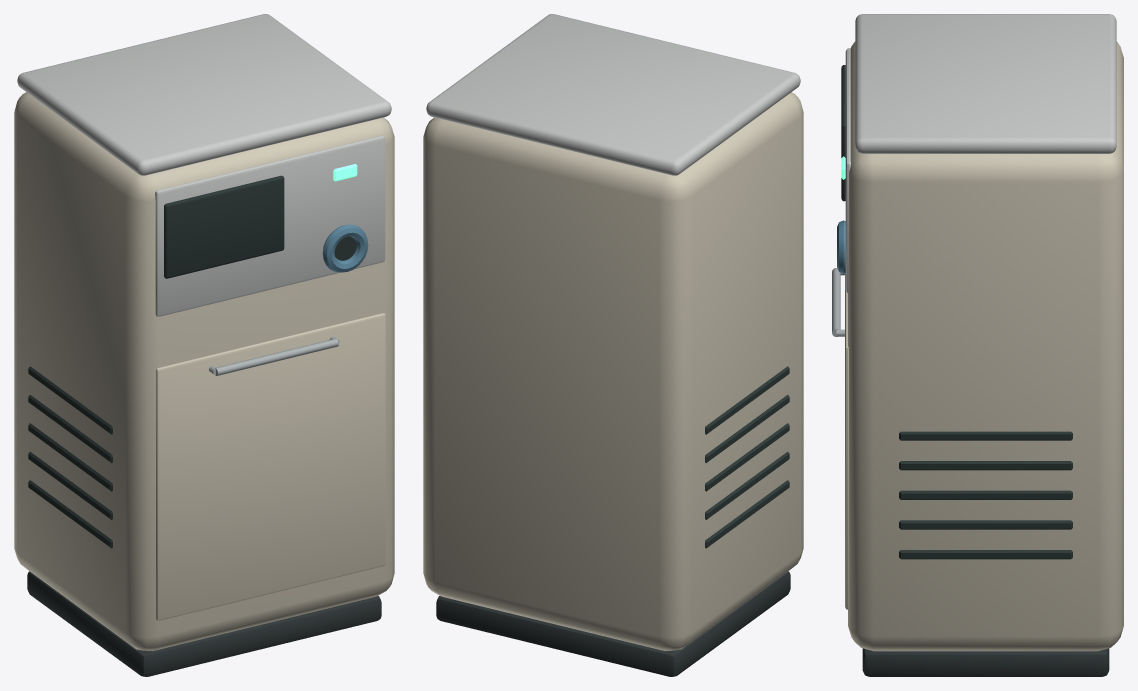
The model's file is sc-smoke-evacuator.glb.
3 renders of one model, left to right at view 1: azimuth 30°, elevation 25°; view 2: azimuth 150°, elevation 25°; view 3: azimuth 270°, elevation 25°, orthographic. The views are drawn at different scales.
Visible parts, largest first — view 1: sc-smoke-evacuator; view 2: sc-smoke-evacuator; view 3: sc-smoke-evacuator.
Boxes of the visible parts, <box> form: sc-smoke-evacuator: <box>14,14,394,676</box>; sc-smoke-evacuator: <box>423,14,803,676</box>; sc-smoke-evacuator: <box>832,14,1123,676</box>.
Bounding box in the file's own units: 0.448 × 0.824 × 0.402.
